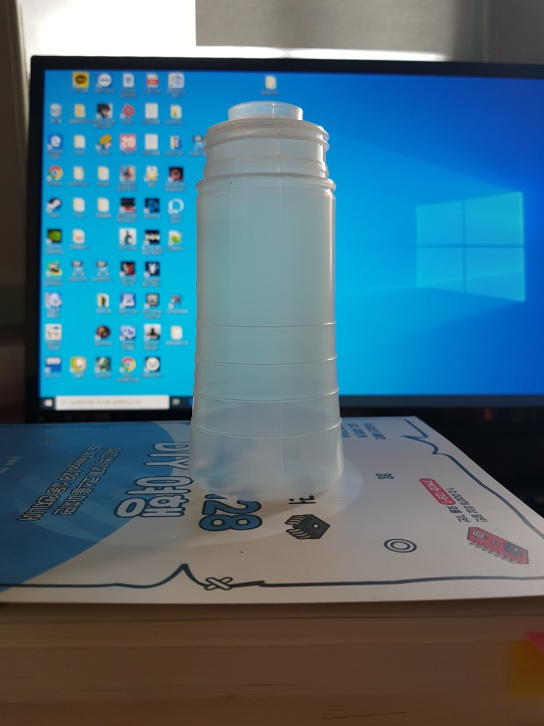Plastic: (187, 100, 348, 505)
